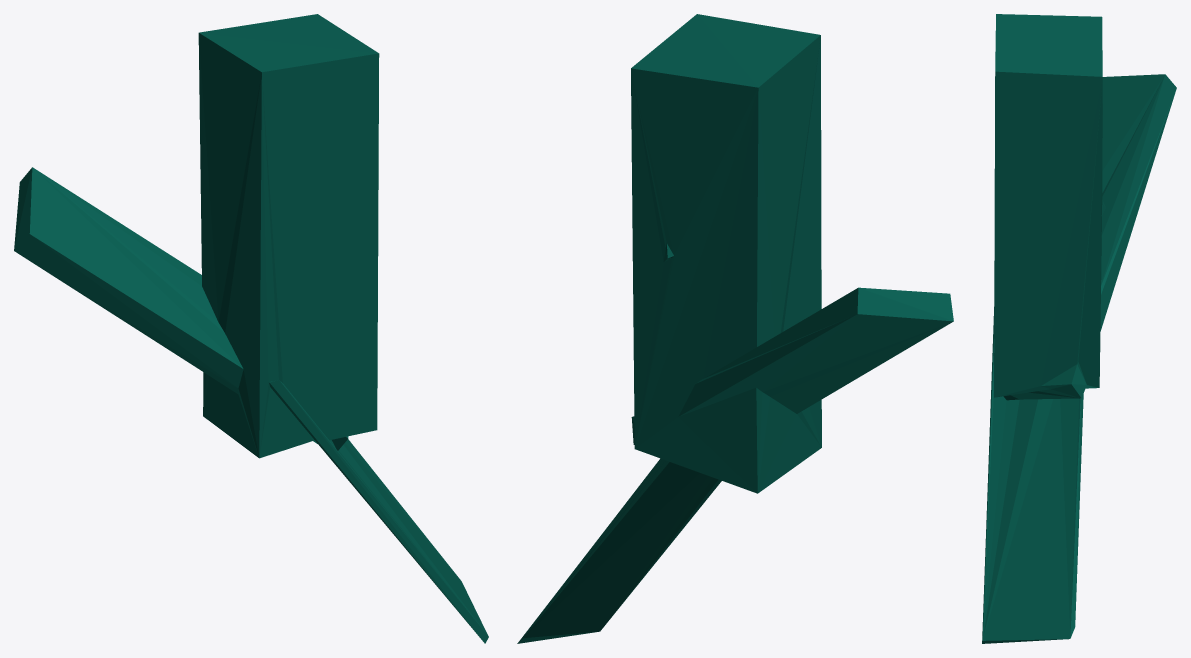
3 views of the same model, side by side, from view 1: azimuth 30°, elevation 25°; view 2: azimuth 150°, elevation 25°; view 3: azimuth 270°, elevation 25° (orthographic). The views are drawn at different scales.
Visible parts, largest first — view 1: 865_Cube.3495; view 2: 865_Cube.3495; view 3: 865_Cube.3495.
Boxes of the visible parts, x1,y1,x2,y2 form: 865_Cube.3495: [14, 14, 488, 643]; 865_Cube.3495: [517, 14, 953, 643]; 865_Cube.3495: [982, 14, 1176, 643].
Bounding box in the file's own units: 14.58 × 20.09 × 6.59.
